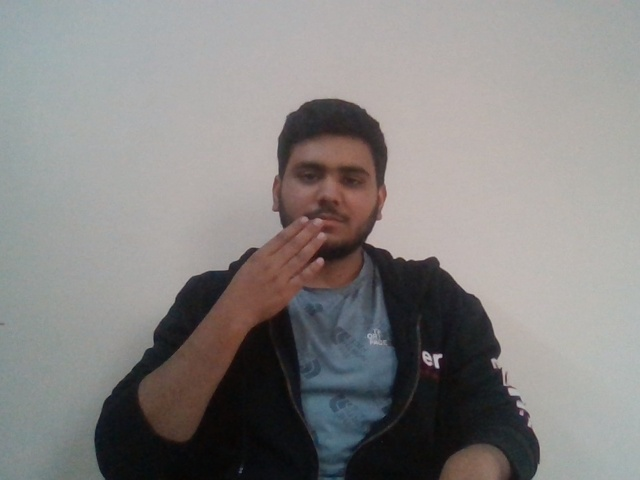Thanks: (231, 207, 362, 318)
